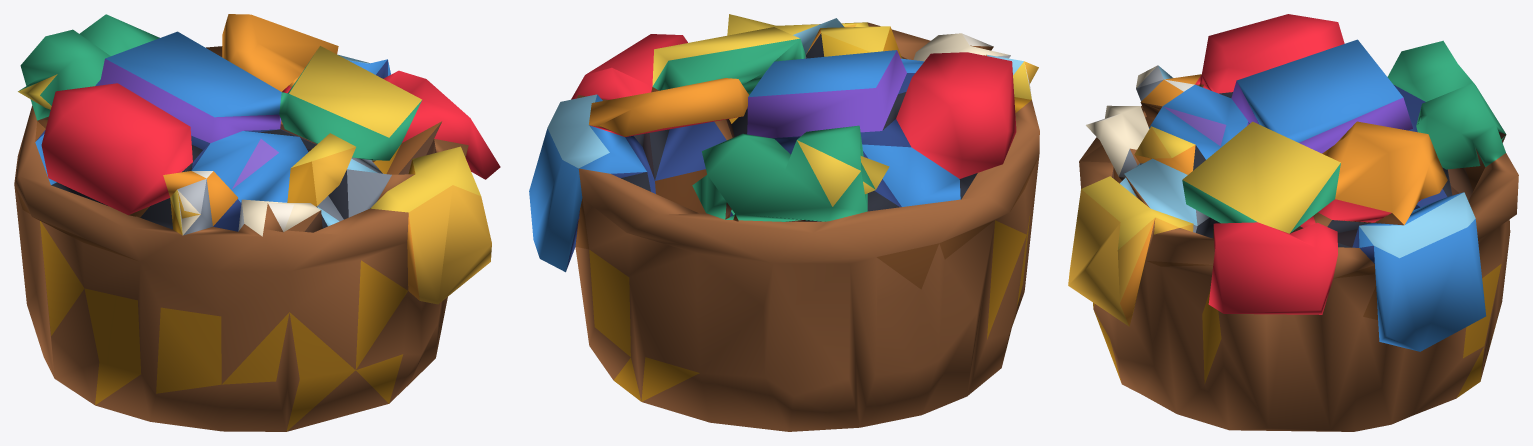
File: SM_basket_clothes.fbx
3 views of the same model, side by side, from view 1: azimuth 30°, elevation 25°; view 2: azimuth 150°, elevation 25°; view 3: azimuth 270°, elevation 25° (orthographic). The views are drawn at different scales.
Parts seen in each view (by area): view 1: SM_basket_clothes; view 2: SM_basket_clothes; view 3: SM_basket_clothes.
Part boxes in pixels (left/top/right/bottom): SM_basket_clothes: left=14, top=14, right=500, bottom=431; SM_basket_clothes: left=529, top=14, right=1039, bottom=431; SM_basket_clothes: left=1068, top=14, right=1518, bottom=431.
Bounding box in the file's own units: 68.5 × 45 × 67.28.
Materials: 1 (1 with a texture image).
